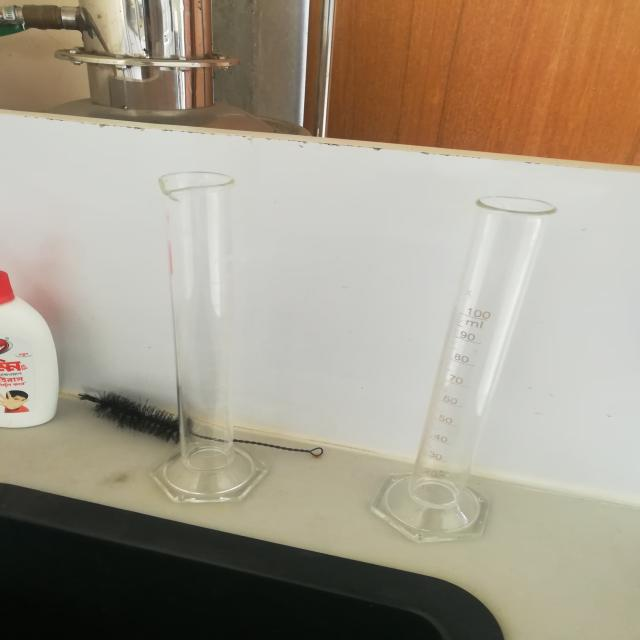Measuring_Cylinder: (349, 134, 583, 571), (132, 131, 310, 521)
